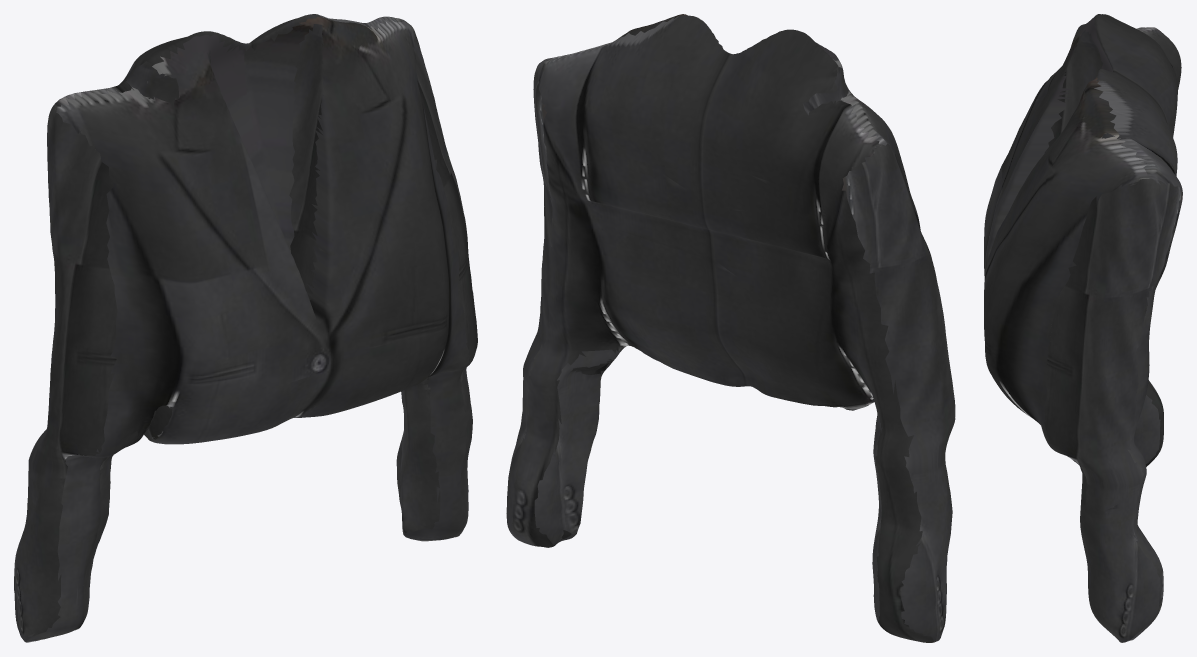
File: NF007-fit-v5.glb
The picture shows the model from 3 angles, left to right: view 1: azimuth 30°, elevation 25°; view 2: azimuth 150°, elevation 25°; view 3: azimuth 270°, elevation 25°; orthographic projection. The views are drawn at different scales.
Parts seen in each view (by area): view 1: NF007_worn_photo_fitted; view 2: NF007_worn_photo_fitted; view 3: NF007_worn_photo_fitted.
Boxes of the visible parts, <box> form: NF007_worn_photo_fitted: <box>14,14,477,642</box>; NF007_worn_photo_fitted: <box>506,14,955,642</box>; NF007_worn_photo_fitted: <box>984,14,1182,642</box>.
Bounding box in the file's own units: 0.5117 × 0.6405 × 0.2253.
Materials: 3 (3 with a texture image).
